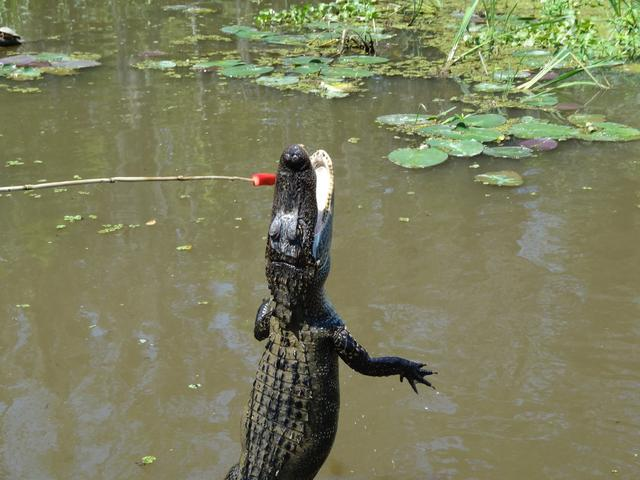crocodile: (260, 137, 419, 480)
